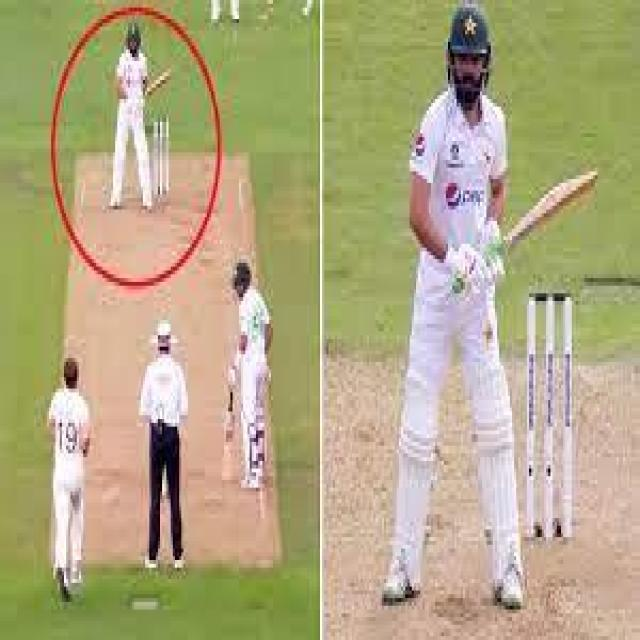bat: (504, 158, 602, 252), (135, 66, 172, 102)
toe: (588, 165, 598, 208), (162, 67, 172, 83)
